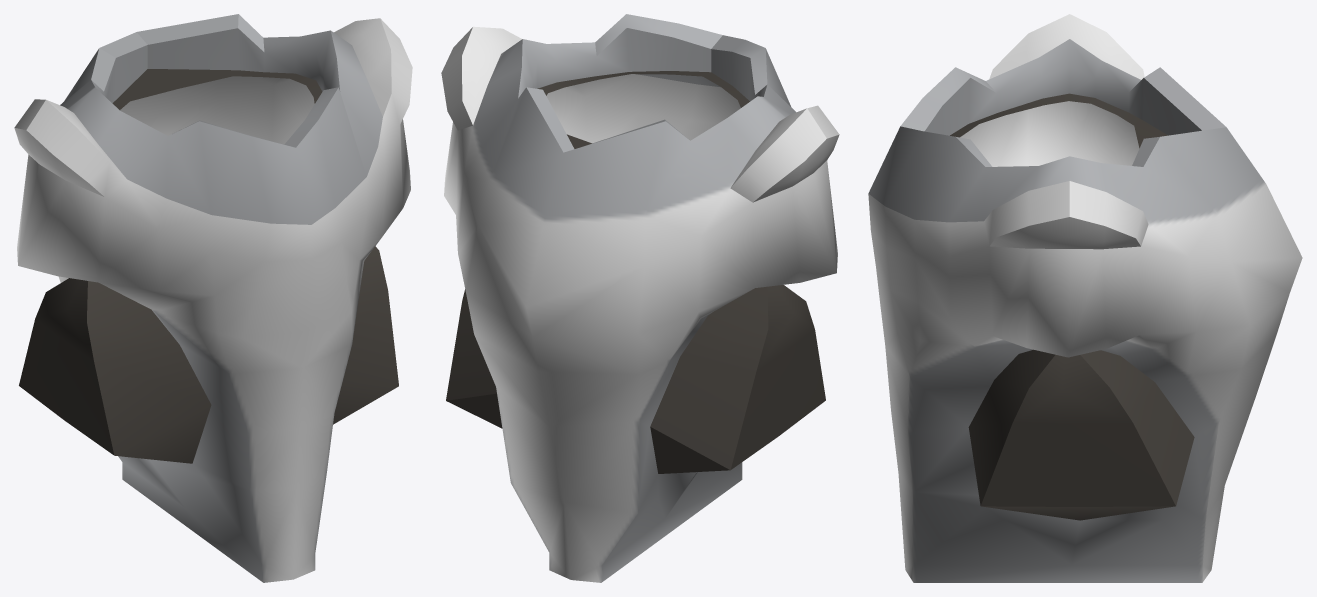
File: ranger_pelvis.fbx
The picture shows the model from 3 angles, left to right: view 1: azimuth 30°, elevation 25°; view 2: azimuth 150°, elevation 25°; view 3: azimuth 270°, elevation 25°; orthographic projection. The views are drawn at different scales.
Visible parts, largest first — view 1: pevri; view 2: pevri; view 3: pevri.
Boxes of the visible parts, left/top/right/bottom form: pevri: left=14, top=14, right=412, bottom=582; pevri: left=441, top=14, right=839, bottom=582; pevri: left=868, top=14, right=1302, bottom=582.
Size of the model in its own units: 30.25 by 34.07 by 28.38.
